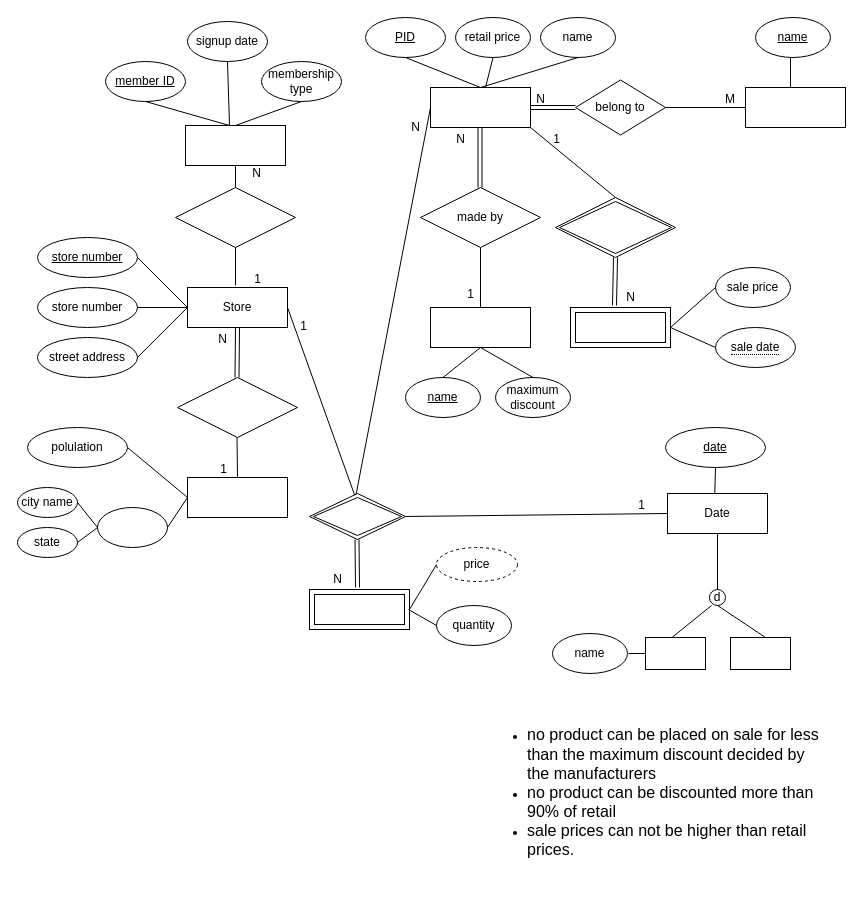
Some shapes in this 863 by 901 pixel diagram are drawn without their labels. The shapes that lost their labels are listed below. From the top down, each one's centre as x and y in pixels, then its label:
At [480,107]: "Product".
At [795,107]: "Categories".
At [235,145]: "Memberships".
At [235,217]: "sign up".
At [615,227]: "goes".
At [480,327]: "Manufacturer".
At [620,327]: "On sale".
At [237,407]: "located in".
At [237,497]: "City".
At [357,516]: "make".
At [132,527]: "location".
At [359,609]: "Purchase".
At [675,653]: "Doliday".
At [760,653]: "Non-holiday".
